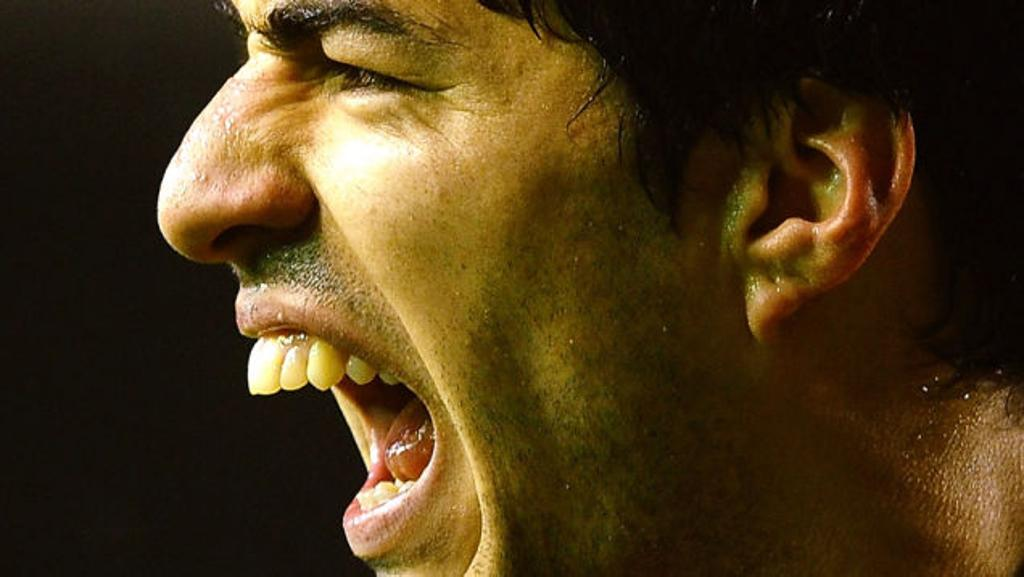face: (150, 12, 708, 574)
